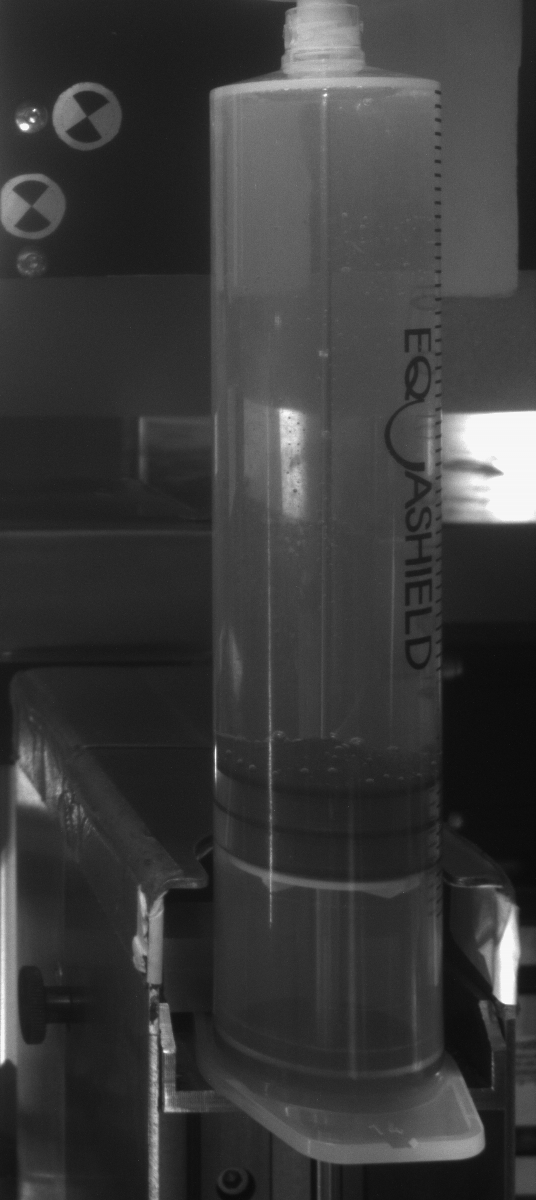piston: (212, 767, 444, 901)
